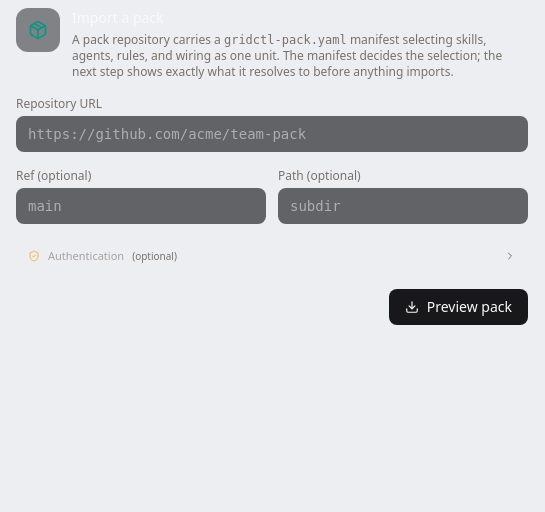
Test case: PackImportWizard — unreachable ssh-agent › offers no HTTPS switch when the server could not derive one
The width and height of the screenshot is (545, 512).
Type "ssh://git@internal/acme/pack.git" into the field named "pack repository url" at [272, 134], box [16,116,528,152]
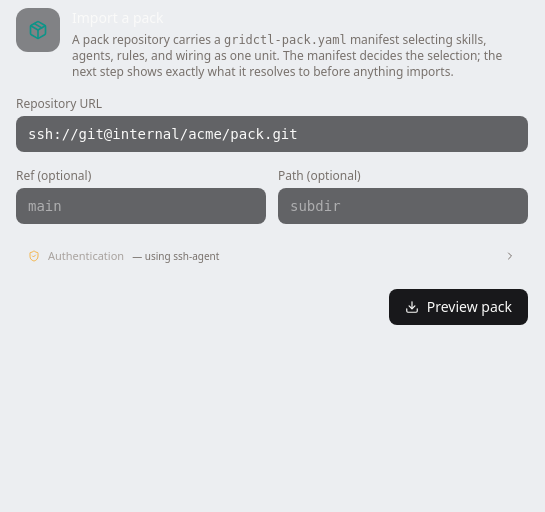
Click the button "Preview pack" at [458, 306], box [389,288,528,324]
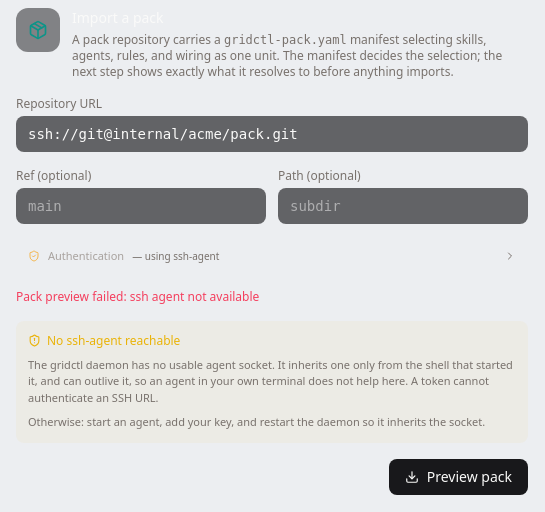
Expected: the text "No ssh-agent reachable" is shown, [28,332,180,348]
